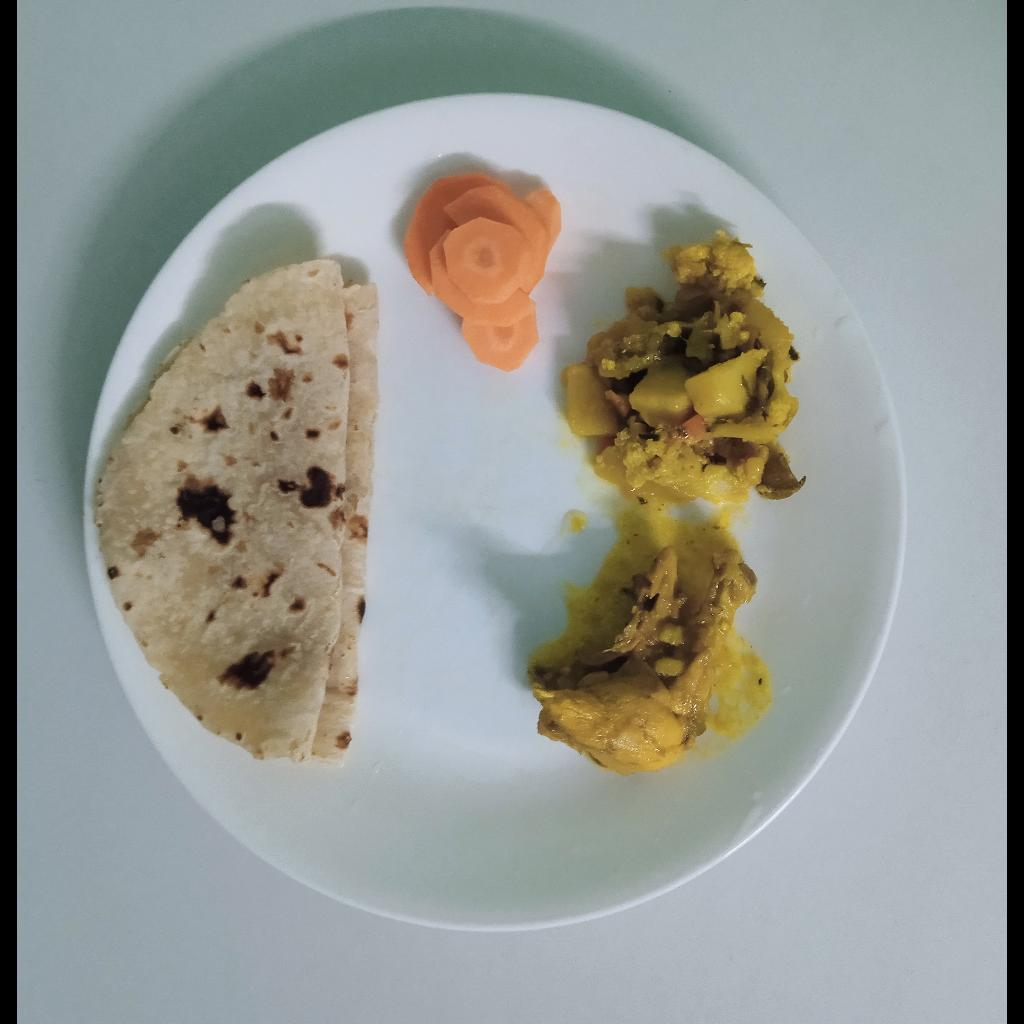carrot: (402, 169, 563, 374)
chicken: (526, 548, 758, 772)
ruti: (94, 260, 380, 761)
vegetable: (560, 234, 804, 511)
